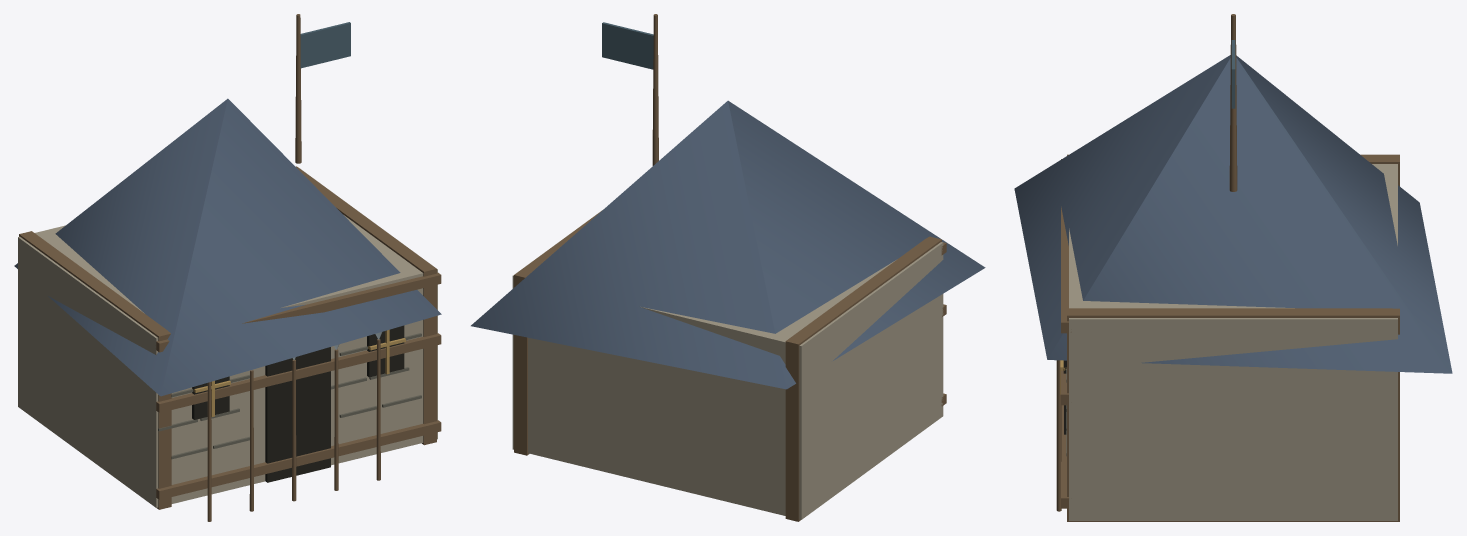
The model's file is b-siege-french.glb.
The picture shows the model from 3 angles, left to right: view 1: azimuth 30°, elevation 25°; view 2: azimuth 150°, elevation 25°; view 3: azimuth 270°, elevation 25°; orthographic projection. The views are drawn at different scales.
Parts seen in each view (by area): view 1: Structure, weaponRack3, weaponRack0, weaponRack4, weaponRack2, weaponRack1; view 2: Structure; view 3: Structure, weaponRack4.
Part boxes in pixels (x1,y1,x2,y2): Structure: [14, 14, 441, 509]; weaponRack3: [334, 344, 338, 490]; weaponRack0: [207, 382, 211, 521]; weaponRack4: [375, 332, 382, 480]; weaponRack2: [292, 357, 296, 501]; weaponRack1: [249, 369, 253, 511]; Structure: [471, 14, 985, 521]; Structure: [1014, 14, 1452, 521]; weaponRack4: [1056, 360, 1061, 511].
Bounding box in the file's own units: 4.53 × 5.6 × 4.53.
